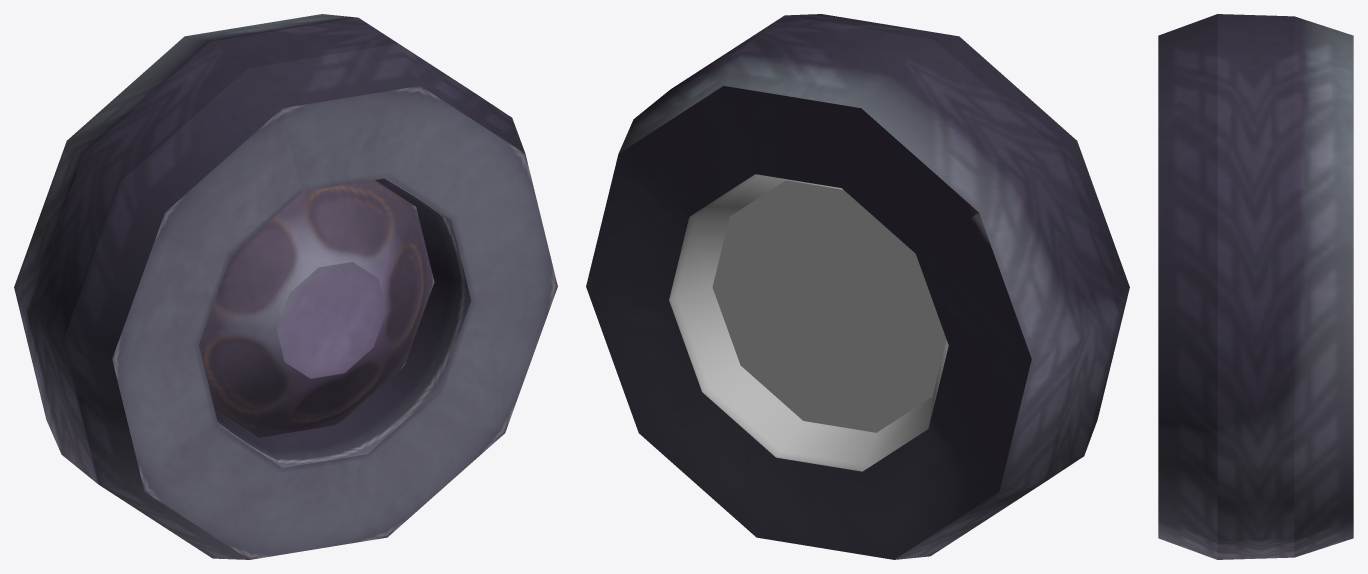
The model's file is car_wheel.glb.
3 views of the same model, side by side, from view 1: azimuth 30°, elevation 25°; view 2: azimuth 150°, elevation 25°; view 3: azimuth 270°, elevation 25° (orthographic).
Visible parts, largest first — view 1: Wheel_FL; view 2: Wheel_FL; view 3: Wheel_FL.
Part boxes in pixels (x1=…): Wheel_FL: x1=14, y1=14, x2=557, y2=559; Wheel_FL: x1=586, y1=14, x2=1129, y2=559; Wheel_FL: x1=1158, y1=14, x2=1353, y2=559.
Size of the model in its own units: 0.6113 by 0.5961 by 0.2147.
Materials: 1 (1 with a texture image).
